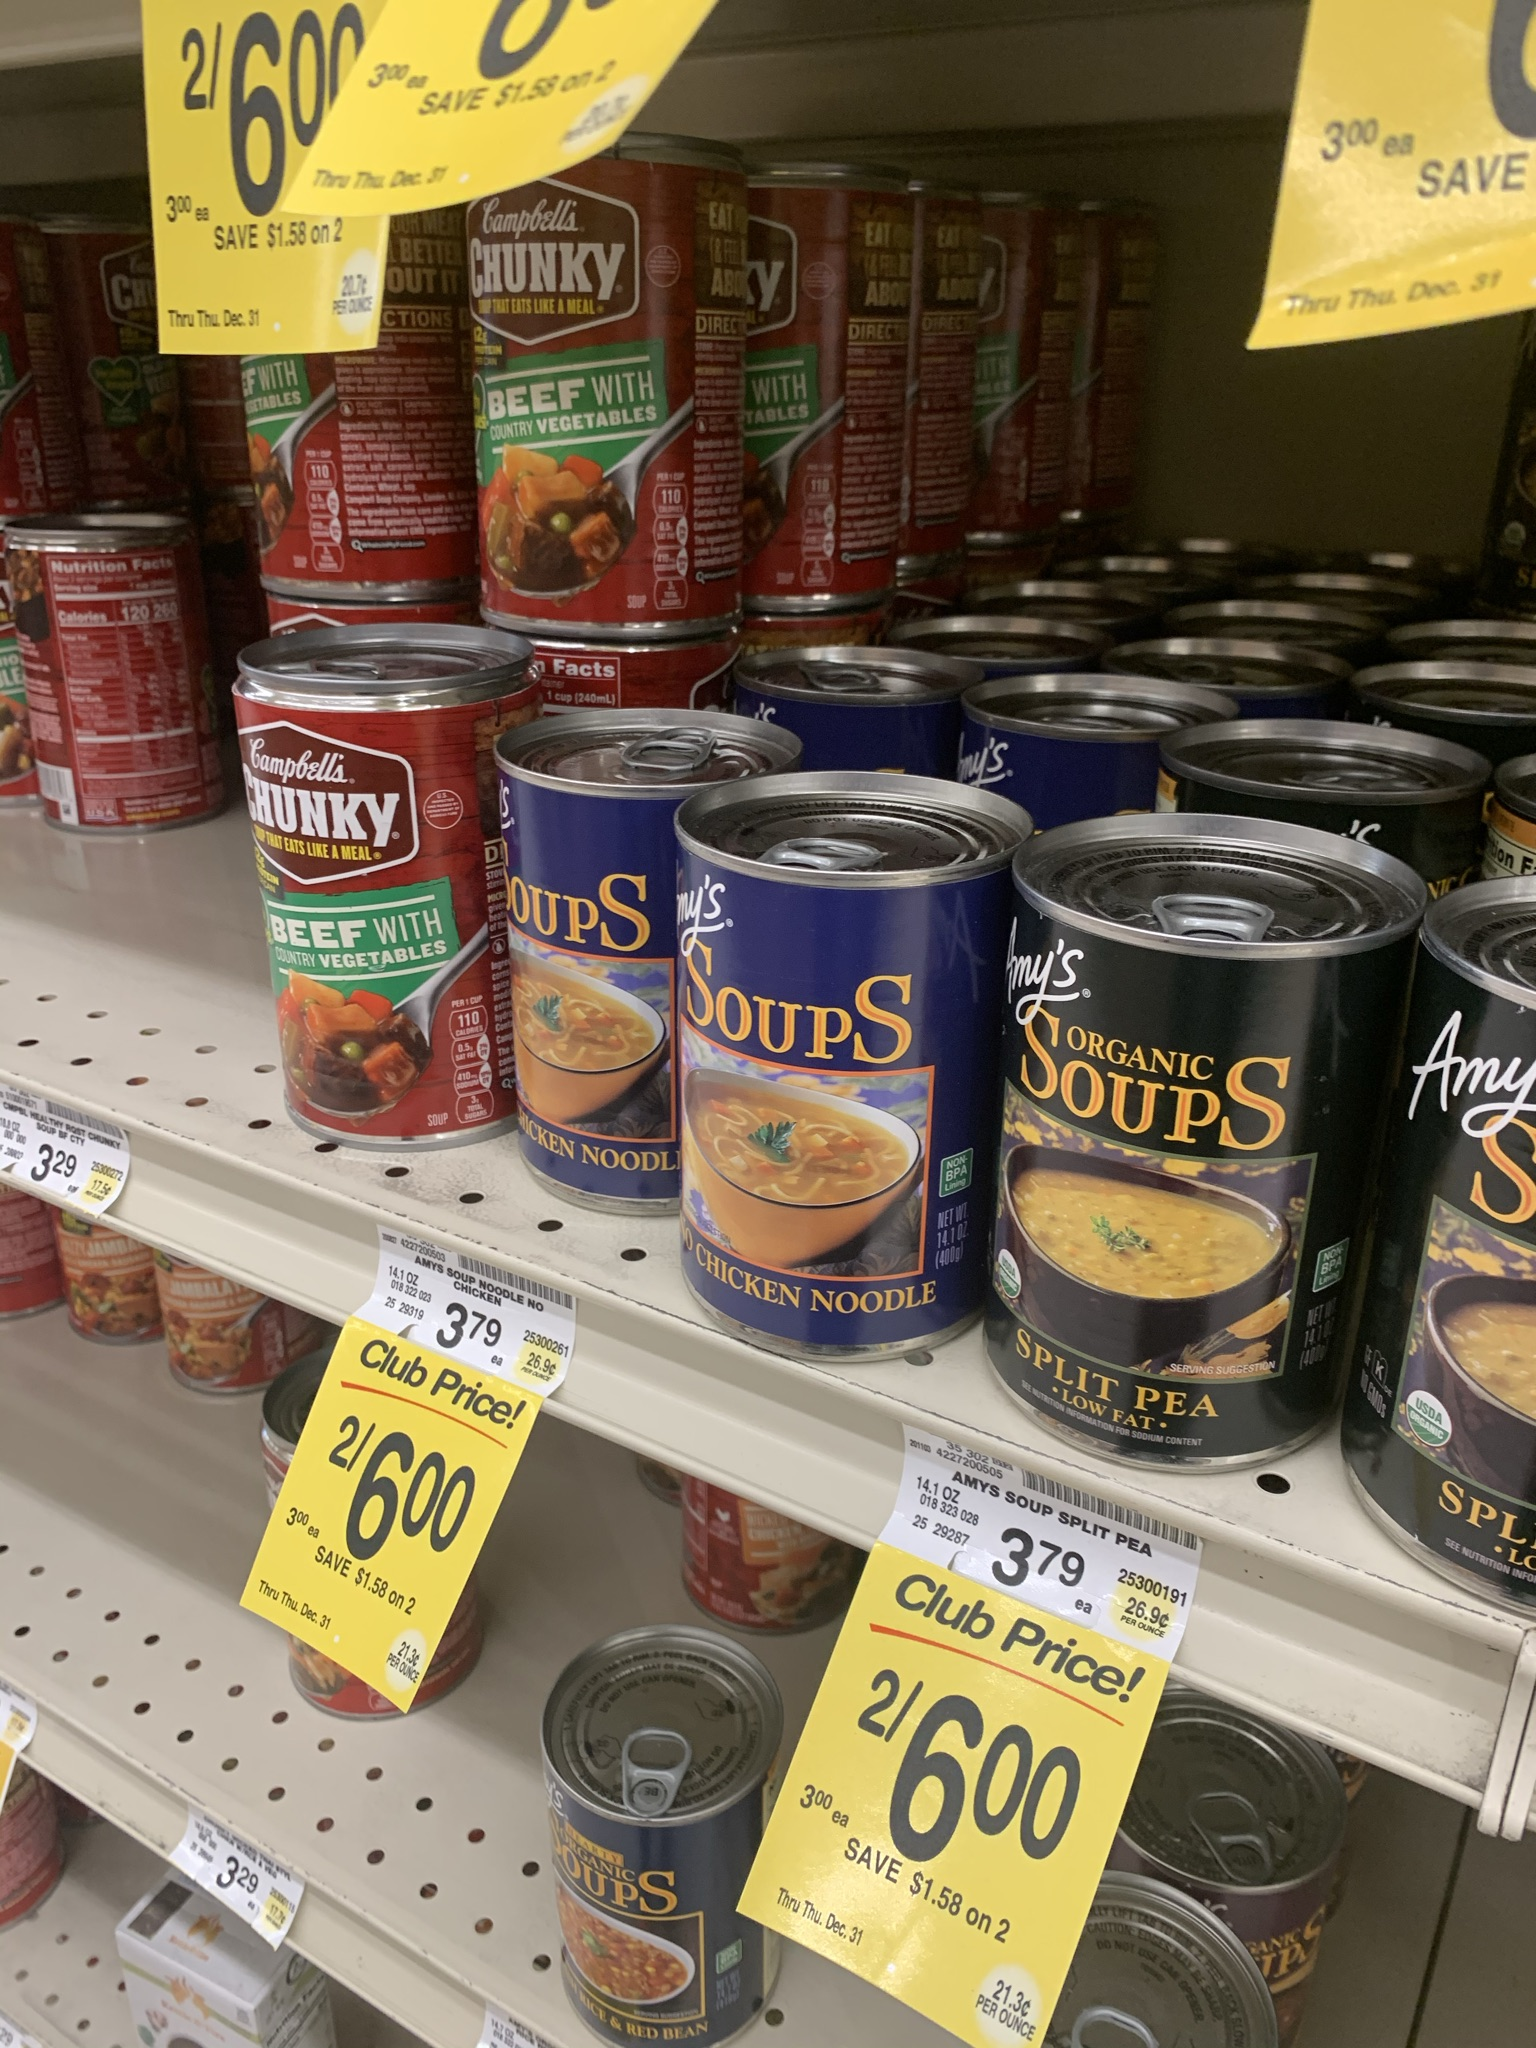can: (1007, 869, 1352, 1442), (470, 131, 745, 639), (674, 827, 963, 1309), (265, 656, 487, 1134), (487, 756, 674, 1221), (5, 527, 226, 834), (550, 1701, 737, 2008)
